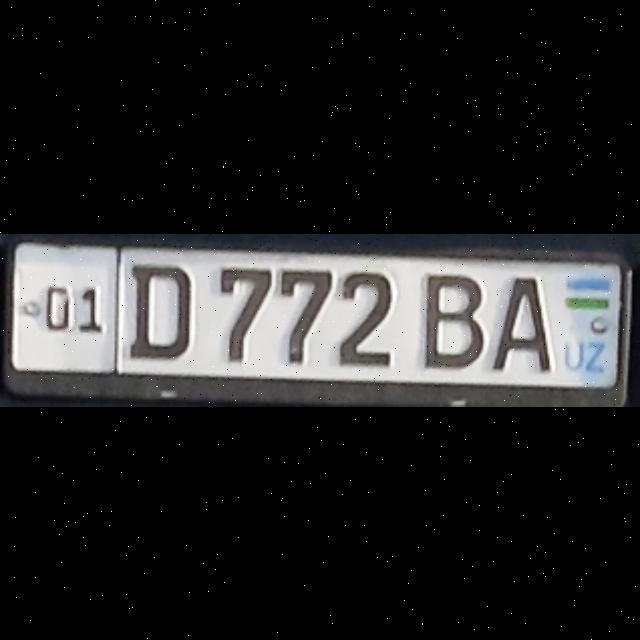0: (42, 281, 66, 325)
1: (75, 281, 99, 329)
2: (338, 270, 390, 364)
7: (218, 262, 268, 360), (280, 264, 328, 360)
A: (493, 276, 547, 364)
B: (423, 272, 479, 366)
D: (129, 260, 189, 360)
